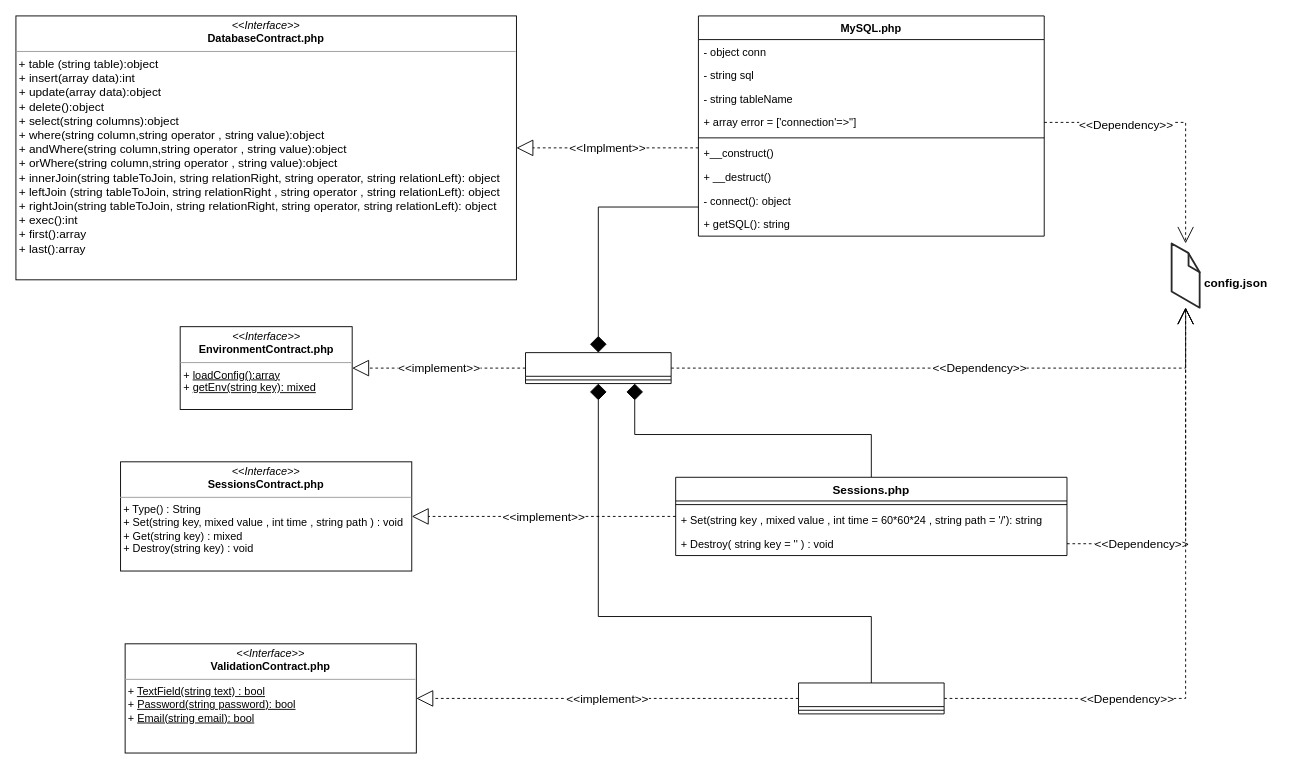
Image size: 1289x769. Some labels were removed from this diagram. Here are the shapes that lost their labels. From the top down, the centre of each, then its label:
At (x=598, y=368): "Env.php".
At (x=871, y=698): "Validation.php".
